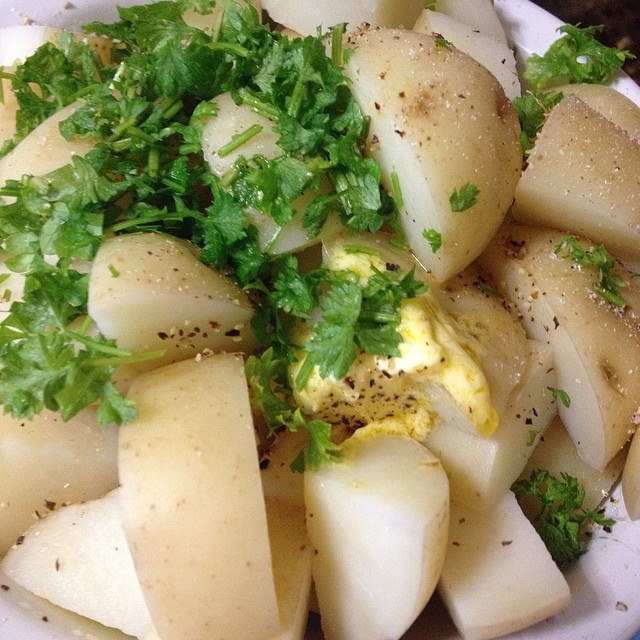boiled potatoes: (21, 31, 635, 636)
